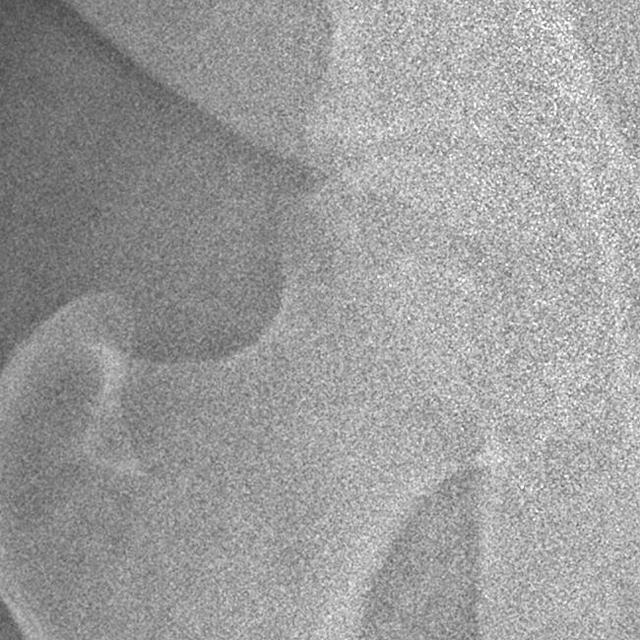Fitted_femural_head: (341, 160, 432, 341)
